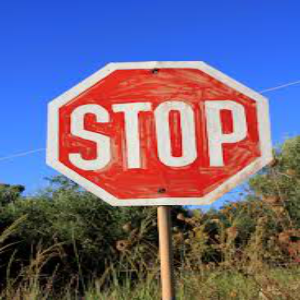STOP_SIGN: (45, 59, 273, 205)
